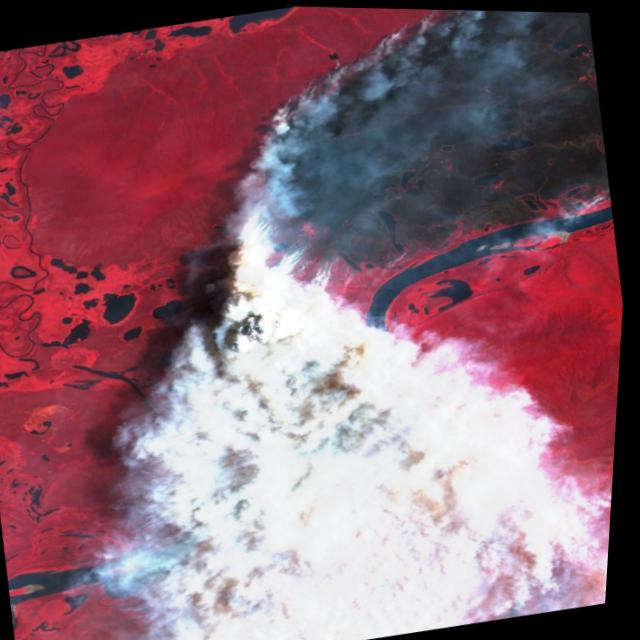fire: (165, 3, 639, 367)
